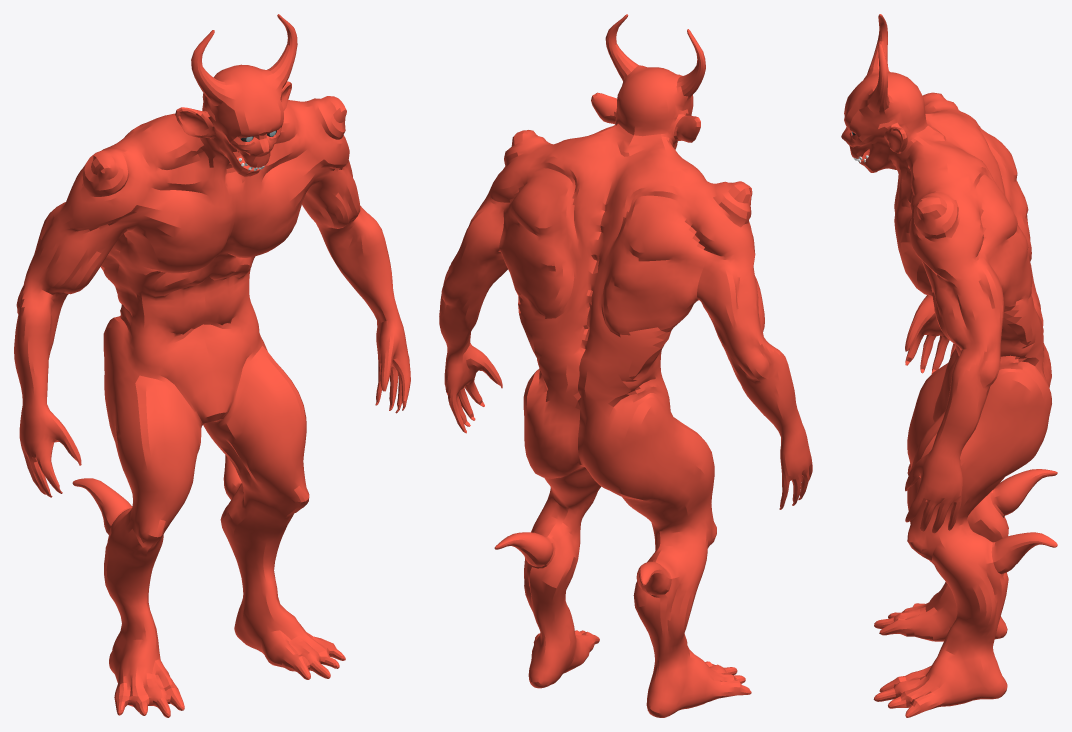
Rendered from DemonAll2.fbx.
3 views of the same model, side by side, from view 1: azimuth 30°, elevation 25°; view 2: azimuth 150°, elevation 25°; view 3: azimuth 270°, elevation 25° (orthographic). The views are drawn at different scales.
Parts seen in each view (by area): view 1: Demon; view 2: Demon; view 3: Demon.
Boxes of the visible parts, left/top/right/bottom form: Demon: left=14, top=14, right=410, bottom=717; Demon: left=439, top=14, right=812, bottom=717; Demon: left=841, top=14, right=1057, bottom=717.
Bounding box in the file's own units: 93.38 × 160 × 48.91.
